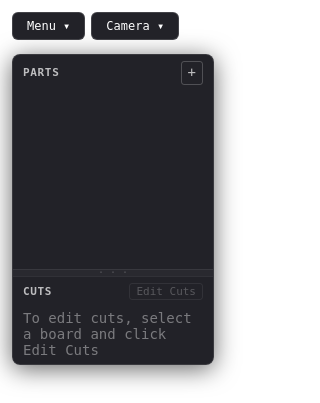
it: Top Bar › Camera dropdown opens when Camera button is clicked
The width and height of the screenshot is (320, 403).
Click the button with id "camera-btn": (135, 26) 91,12 -> 179,40
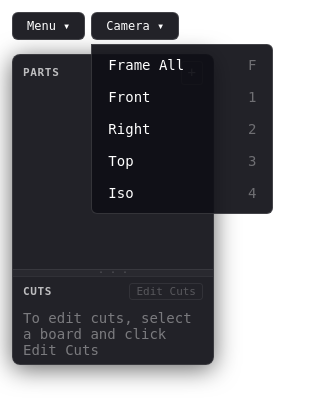
Check: the element with id "camera-dropdown" is shown, box 91,44 -> 273,214
